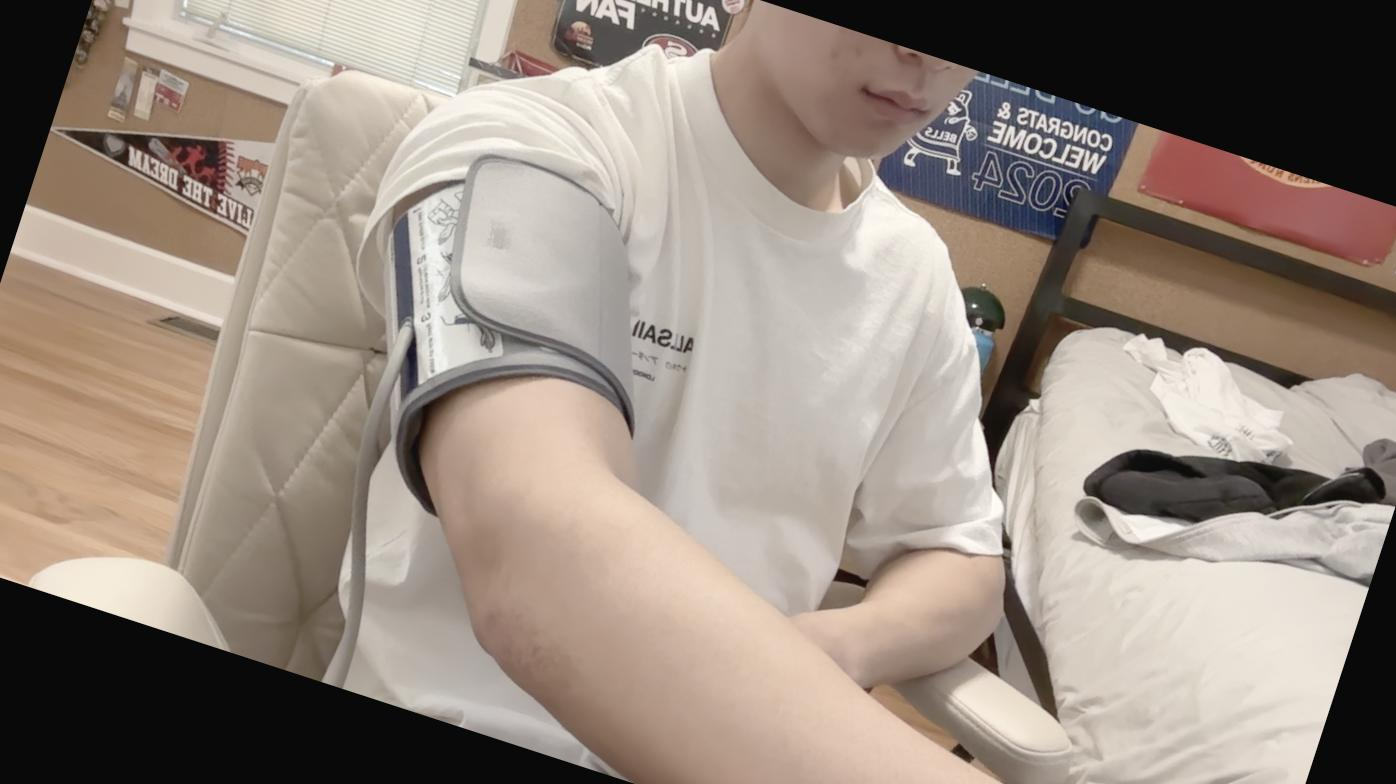cuff: (335, 134, 712, 569), (338, 141, 700, 524)
